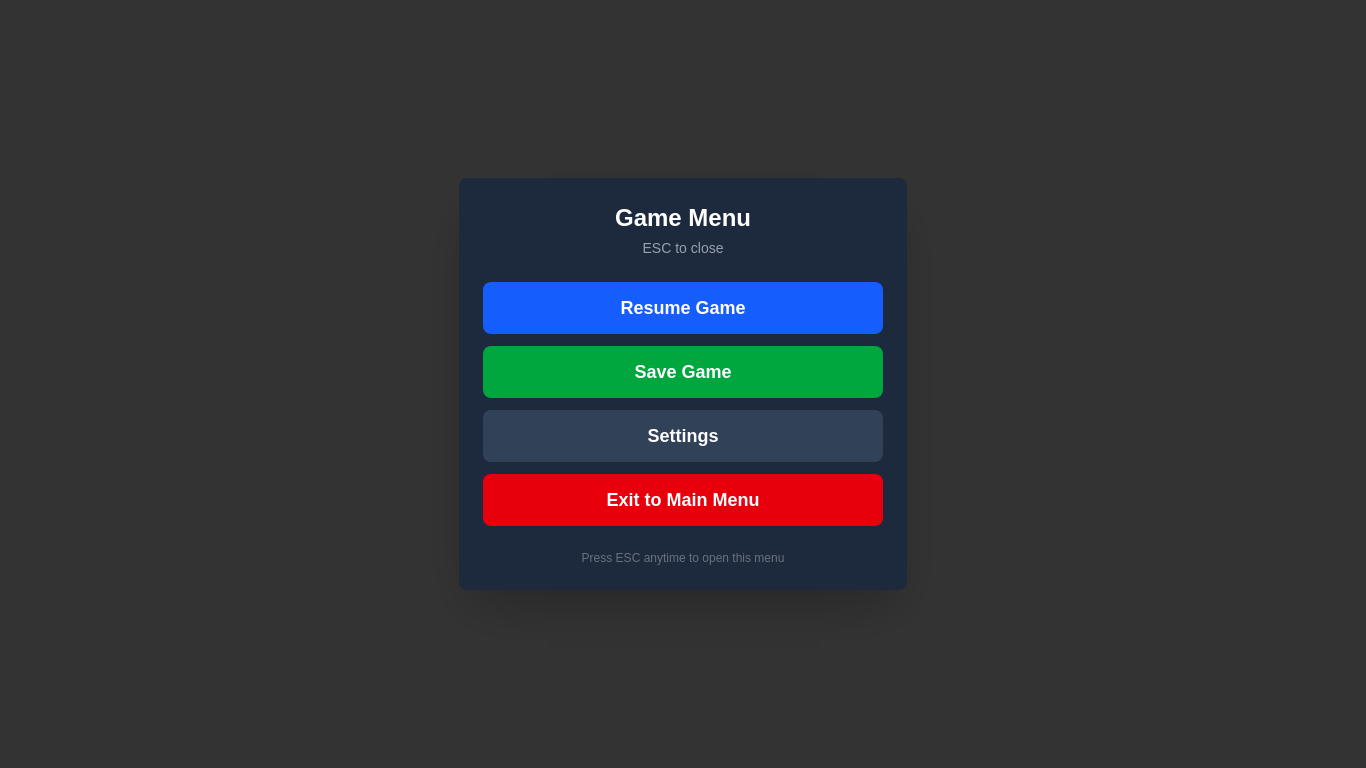
Test: InGameMenu › should open SettingsModal when Settings is clicked
The image size is (1366, 768).
Click the button "Settings" at coordinates (683, 436), box [483,410,883,462]
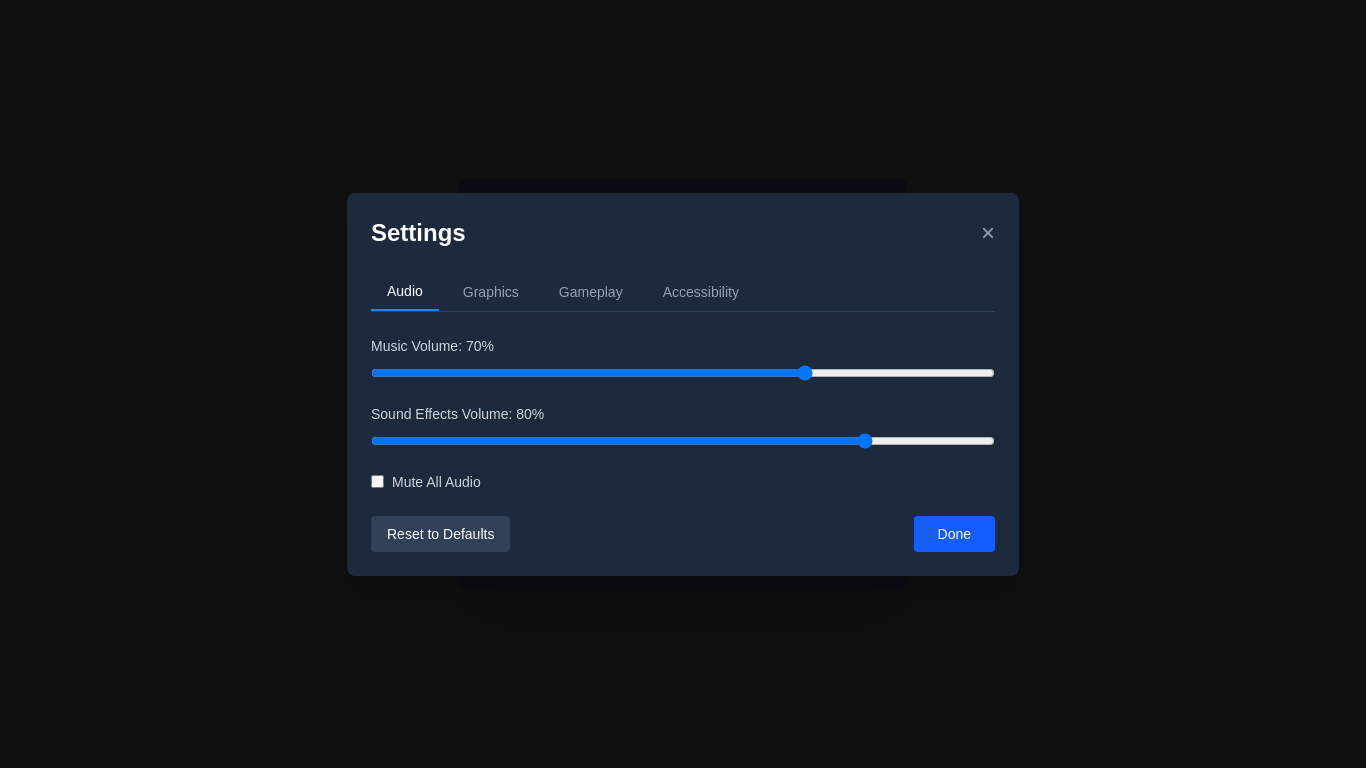
Expected: the text "Music Volume: 70%" is shown, [371,338,494,354]
